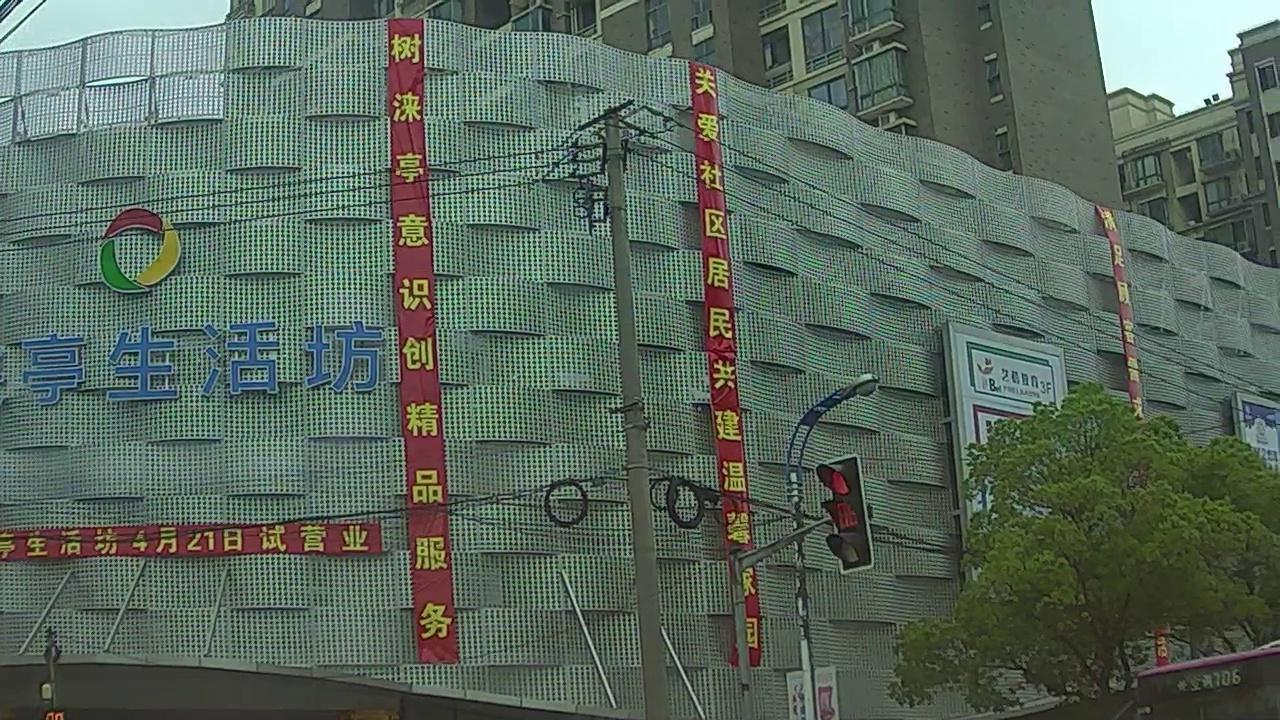traffic_light: (815, 461, 870, 566)
